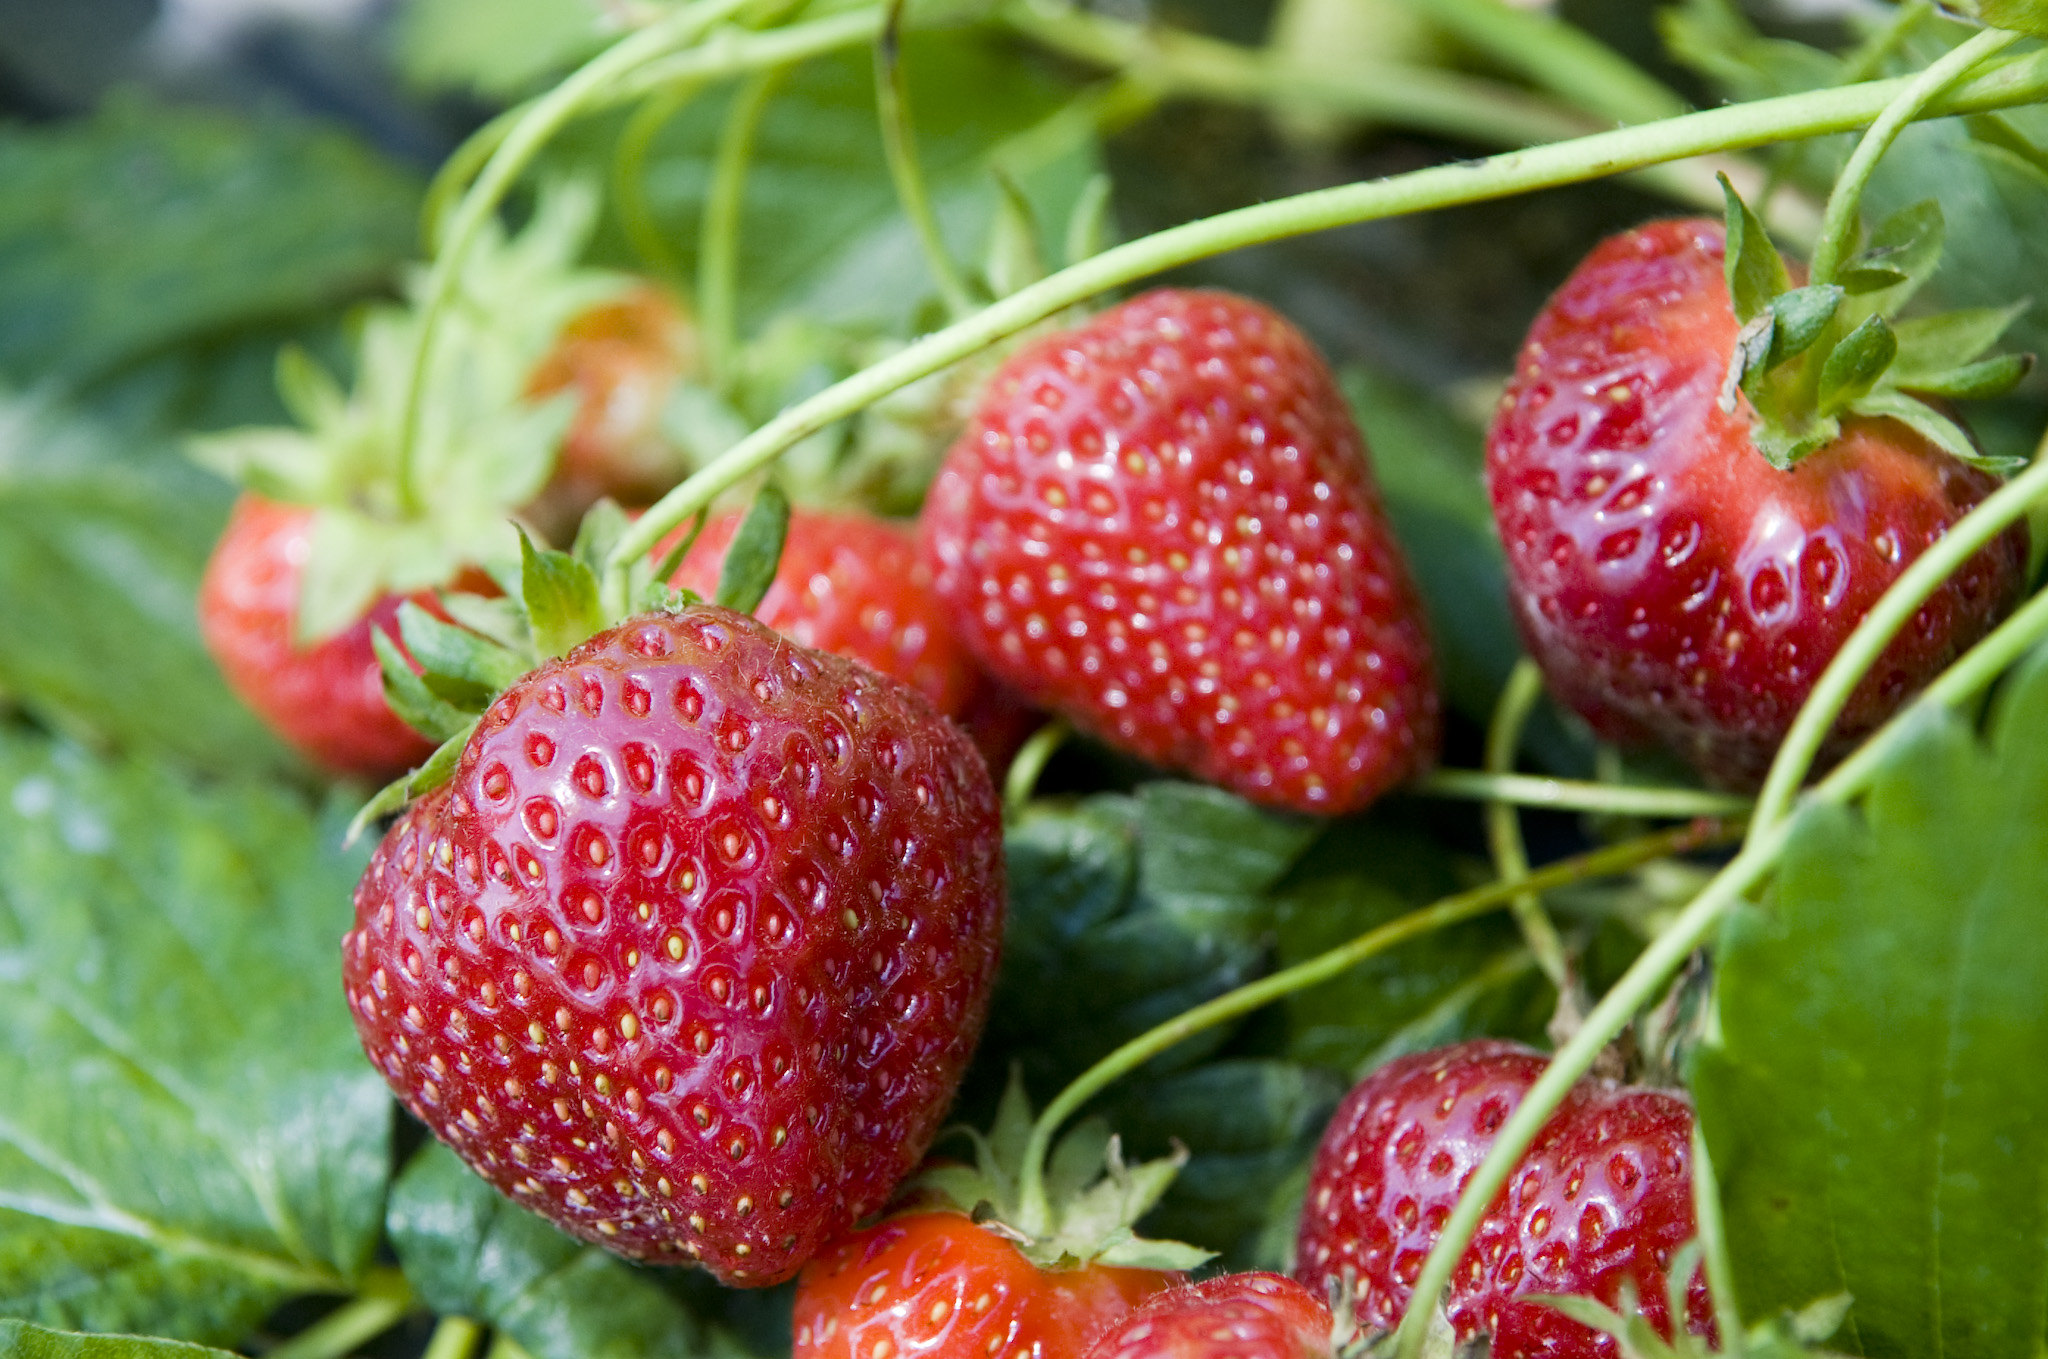ripe: (349, 598, 1022, 1294), (1489, 196, 2036, 778), (920, 281, 1451, 833), (1302, 1024, 1778, 1342), (189, 473, 552, 786), (587, 476, 1051, 714), (772, 1201, 1091, 1342), (1049, 1233, 1342, 1342)
unripe: (497, 276, 738, 529)
